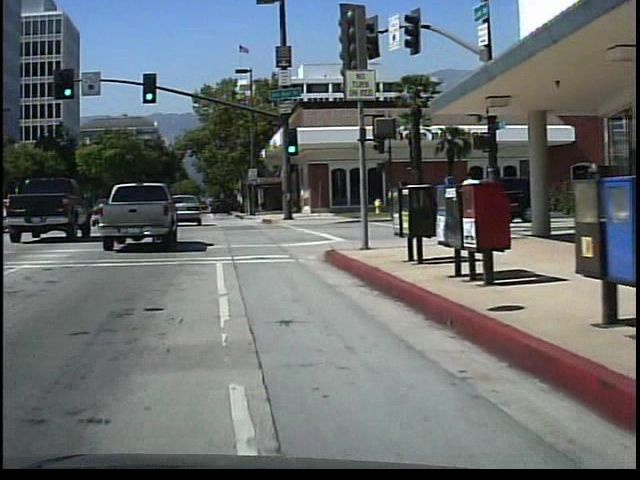person: (459, 167, 486, 243)
